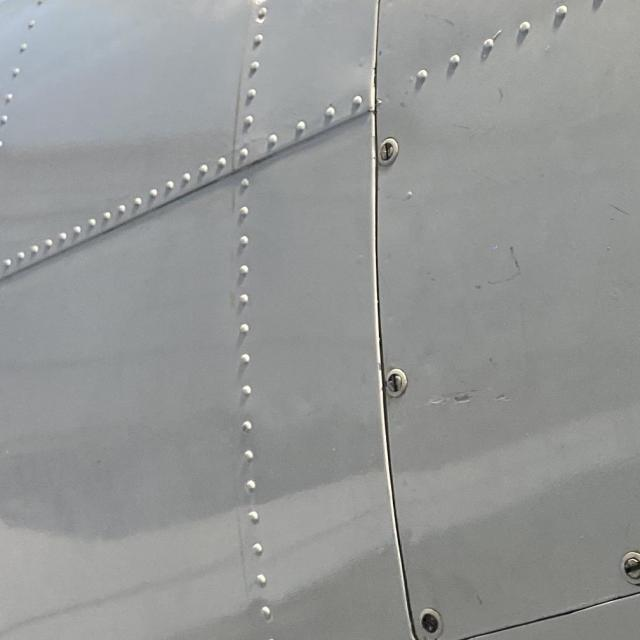Paint-off: (417, 378, 539, 408)
